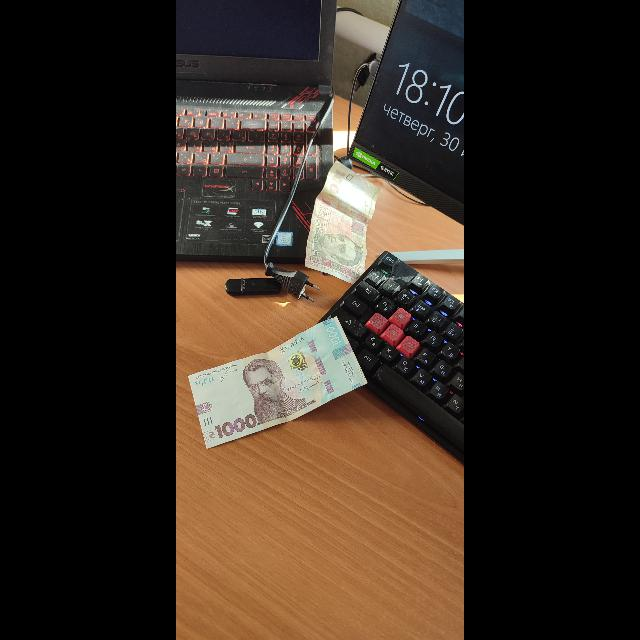1000uah: (190, 314, 366, 450)
100uah: (308, 161, 384, 284)
